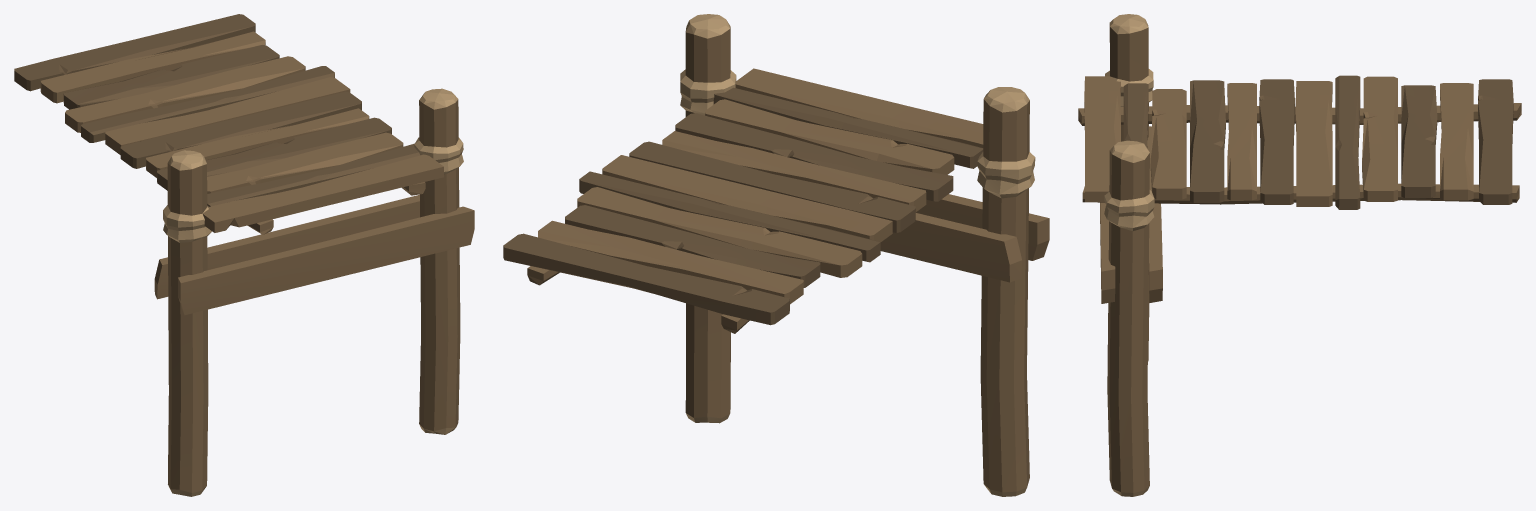
Rendered from Muelle.glb.
3 renders of one model, left to right at view 1: azimuth 30°, elevation 25°; view 2: azimuth 150°, elevation 25°; view 3: azimuth 270°, elevation 25°, orthographic. The views are drawn at different scales.
Visible parts, largest first — view 1: SM_Prop_Dock_02_1; view 2: SM_Prop_Dock_02_1; view 3: SM_Prop_Dock_02_1.
Boxes of the visible parts, x1,y1,x2,y2 form: SM_Prop_Dock_02_1: (14,14,474,496); SM_Prop_Dock_02_1: (503,14,1049,496); SM_Prop_Dock_02_1: (1078,14,1521,496).
Bounding box in the file's own units: 4.05 × 4.43 × 5.12.
1 material, 1 textured.
